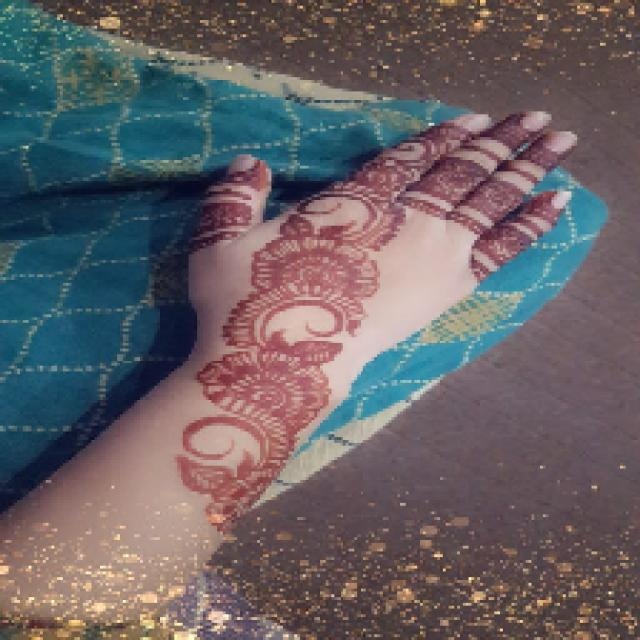Nail: (545, 131, 578, 156), (450, 114, 491, 134), (228, 154, 259, 174), (521, 111, 551, 131), (550, 190, 571, 211)
